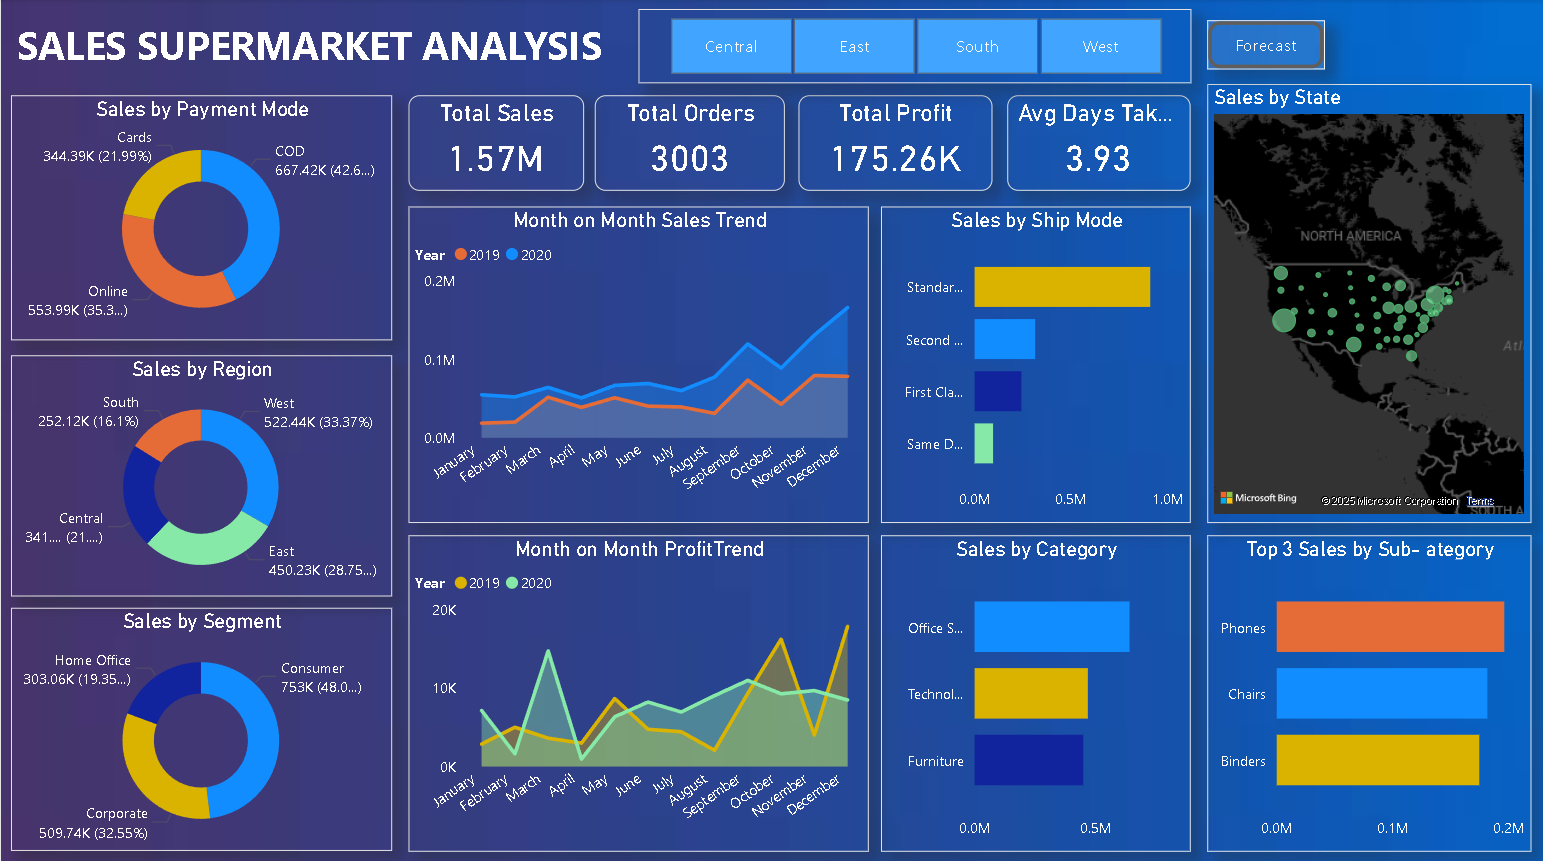

What the dashboard file says about the page in this screenshot:
{"tool":"powerbi","page":{"name":"Overview","canvas":[1280,720],"ordinal":0},"visuals":[{"type":"textbox","box":[8.2,11,509.1,59],"z":0},{"type":"card","title":"Total Sales","fields":{"Values":["Sum(Sales_Dataset_proj2.Sales)"]},"box":[337.6,79.6,145.5,79.6],"z":1000},{"type":"card","title":"Total Orders","fields":{"Values":["Count(Sales_Dataset_proj2.Order ID)"]},"box":[492.6,79.6,157.8,79.6],"z":2000},{"type":"card","title":"Total Profit","fields":{"Values":["Sum(Sales_Dataset_proj2.Profit)"]},"box":[661.4,79.6,160.5,79.6],"z":3000},{"type":"card","title":"Avg Days Taken","fields":{"Values":["Avg(Sales_Dataset_proj2.Days Taken)"]},"box":[834.3,79.6,152.3,79.6],"z":4000},{"type":"donutChart","title":"Sales by Payment Mode","fields":{"Category":["Sales_Dataset_proj2.Payment Mode"],"Y":["Sum(Sales_Dataset_proj2.Sales)"]},"box":[8.2,79.6,315.6,203.1],"z":5000},{"type":"donutChart","title":"Sales by Region","fields":{"Category":["Sales_Dataset_proj2.Region"],"Y":["Sum(Sales_Dataset_proj2.Sales)"]},"box":[8.2,295,315.6,200.3],"z":6000},{"type":"donutChart","title":"Sales by Segment","fields":{"Category":["Sales_Dataset_proj2.Segment"],"Y":["Sum(Sales_Dataset_proj2.Sales)"]},"box":[8.2,505,315.6,201.7],"z":7000},{"type":"areaChart","title":"Month on Month Sales Trend","fields":{"Category":["Sales_Dataset_proj2.Order Date.Variation.Date Hierarchy.Month"],"Y":["Sum(Sales_Dataset_proj2.Sales)"],"Series":["Sales_Dataset_proj2.Order Date.Variation.Date Hierarchy.Year"]},"box":[337.6,171.5,381.5,262.1],"z":8000},{"type":"areaChart","title":"Month on Month ProfitTrend","fields":{"Category":["Sales_Dataset_proj2.Order Date.Variation.Date Hierarchy.Month"],"Series":["Sales_Dataset_proj2.Order Date.Variation.Date Hierarchy.Year"],"Y":["Sum(Sales_Dataset_proj2.Profit)"]},"box":[337.6,444.6,381.5,262.1],"z":9000},{"type":"barChart","title":"Sales by Ship Mode","fields":{"Y":["Sum(Sales_Dataset_proj2.Sales)"],"Series":["Sales_Dataset_proj2.Ship Mode"],"Category":["Sales_Dataset_proj2.Ship Mode"]},"box":[730,171.5,256.6,262.1],"z":10000},{"type":"barChart","title":"Sales by Category","fields":{"Y":["Sum(Sales_Dataset_proj2.Sales)"],"Category":["Sales_Dataset_proj2.Category"],"Series":["Sales_Dataset_proj2.Category"]},"box":[730,444.6,256.6,262.1],"z":11000},{"type":"map","title":"Sales by State","fields":{"Category":["Sales_Dataset_proj2.State"],"Size":["Sum(Sales_Dataset_proj2.Sales)"]},"box":[1000.3,70,269,363.6],"z":12000},{"type":"barChart","title":"Top 3 Sales by Sub- ategory","fields":{"Y":["Sum(Sales_Dataset_proj2.Sales)"],"Category":["Sales_Dataset_proj2.Sub-Category"],"Series":["Sales_Dataset_proj2.Sub-Category"]},"box":[1000.3,444.6,269,262.1],"z":13000},{"type":"slicer","fields":{"Values":["Sales_Dataset_proj2.Region"]},"box":[528.3,8.2,458.3,61.7],"z":14000},{"type":"actionButton","box":[1000.1,18.1,97.7,41],"z":15000}]}

Visuals, with their boxes in screenshot pixels (x1, y1, x2, y2), scaled from the page's 1280x720 canvas onto the 1543x861 screenshot:
textbox: {"x1": 10, "y1": 13, "x2": 624, "y2": 84}
"Total Sales" card: {"x1": 407, "y1": 95, "x2": 582, "y2": 190}
"Total Orders" card: {"x1": 594, "y1": 95, "x2": 784, "y2": 190}
"Total Profit" card: {"x1": 797, "y1": 95, "x2": 991, "y2": 190}
"Avg Days Taken" card: {"x1": 1006, "y1": 95, "x2": 1189, "y2": 190}
"Sales by Payment Mode" donutChart: {"x1": 10, "y1": 95, "x2": 390, "y2": 338}
"Sales by Region" donutChart: {"x1": 10, "y1": 353, "x2": 390, "y2": 592}
"Sales by Segment" donutChart: {"x1": 10, "y1": 604, "x2": 390, "y2": 845}
"Month on Month Sales Trend" areaChart: {"x1": 407, "y1": 205, "x2": 867, "y2": 519}
"Month on Month ProfitTrend" areaChart: {"x1": 407, "y1": 532, "x2": 867, "y2": 845}
"Sales by Ship Mode" barChart: {"x1": 880, "y1": 205, "x2": 1189, "y2": 519}
"Sales by Category" barChart: {"x1": 880, "y1": 532, "x2": 1189, "y2": 845}
"Sales by State" map: {"x1": 1206, "y1": 84, "x2": 1530, "y2": 519}
"Top 3 Sales by Sub- ategory" barChart: {"x1": 1206, "y1": 532, "x2": 1530, "y2": 845}
slicer - Sales_Dataset_proj2.Region: {"x1": 637, "y1": 10, "x2": 1189, "y2": 84}
actionButton: {"x1": 1206, "y1": 22, "x2": 1323, "y2": 71}
